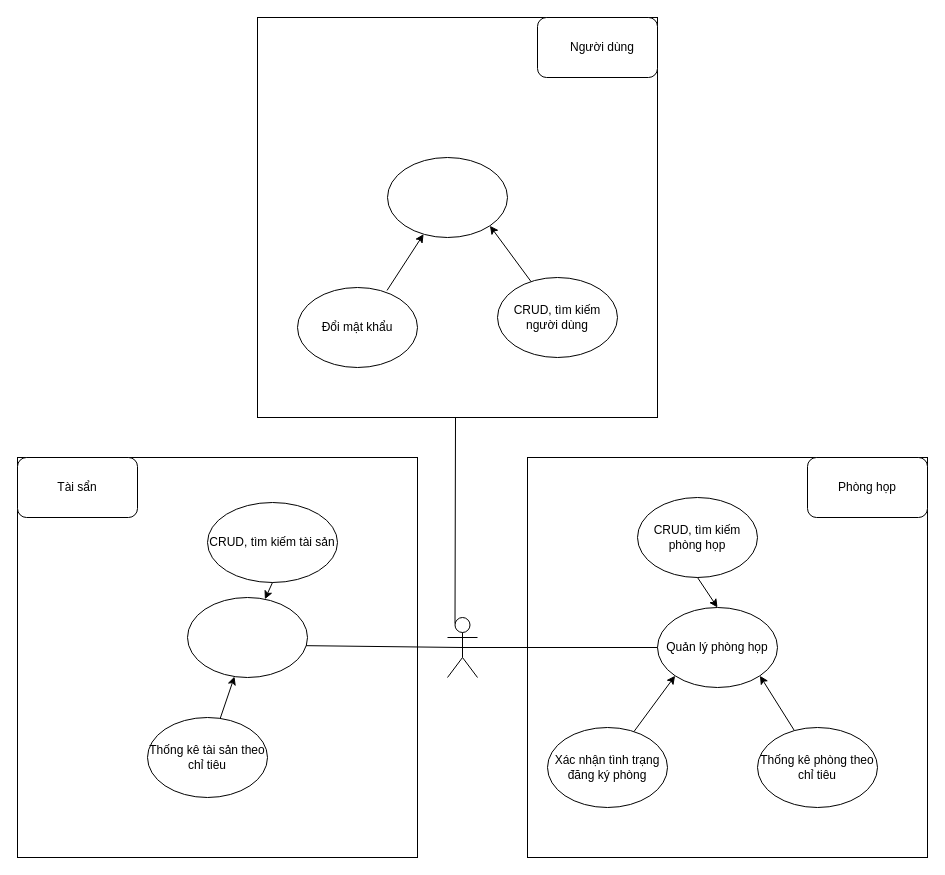
Some shapes in this 945 by 875 pixel diagram are drawn without their labels. The centre of each missing label's shape, as x and y in pixels:
Admin: point 462,647
Quản lý người dùng: point 447,197
Quản lý tài sản: point 247,637
